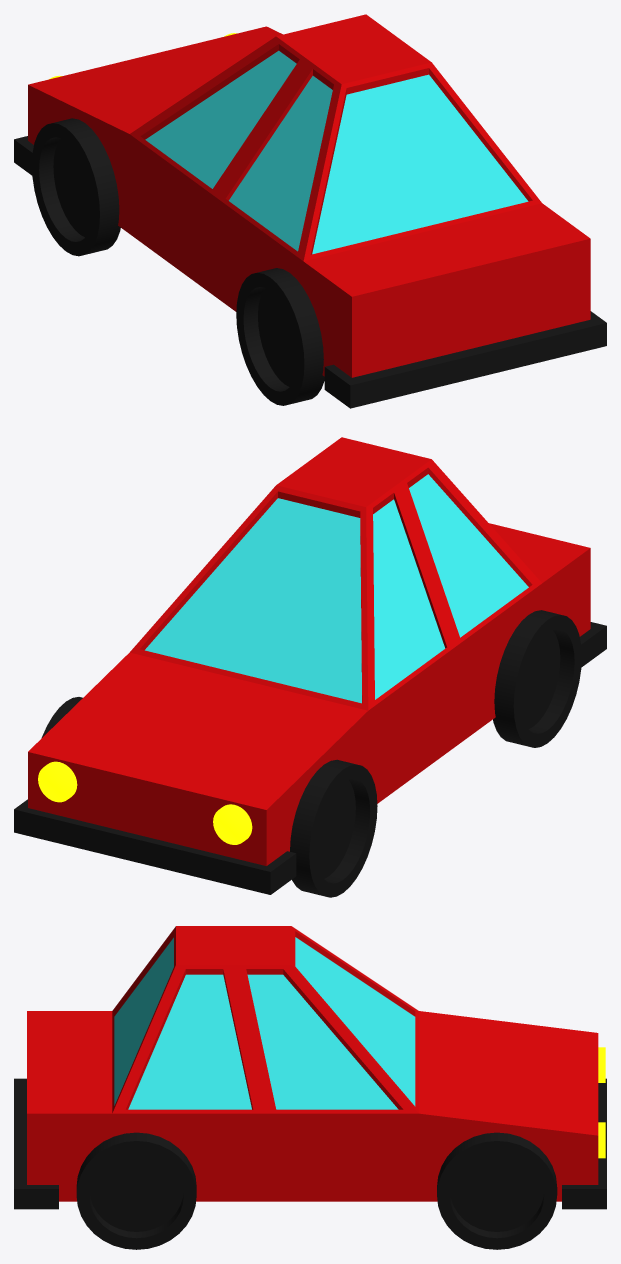
The model's file is car.dae.
The picture shows the model from 3 angles, top to bottom: view 1: azimuth 30°, elevation 25°; view 2: azimuth 150°, elevation 25°; view 3: azimuth 270°, elevation 25°; orthographic projection. The views are drawn at different scales.
Parts seen in each view (by area): view 1: CarBody, FrontWheels.001, FrontWheels, BackBumper, FrontBumper; view 2: CarBody, FrontWheels, FrontWheels.001, FrontBumper, Lights, BackBumper; view 3: CarBody, FrontWheels.001, FrontWheels, BackBumper, FrontBumper, Lights.
Part boxes in pixels (<box>): CarBody: <box>28,14,590,377</box>; FrontWheels.001: <box>236,268,324,405</box>; FrontWheels: <box>32,118,120,256</box>; BackBumper: <box>324,311,606,408</box>; FrontBumper: <box>14,136,33,175</box>; CarBody: <box>28,437,590,865</box>; FrontWheels: <box>41,697,377,897</box>; FrontWheels.001: <box>493,610,581,747</box>; FrontBumper: <box>14,799,296,894</box>; Lights: <box>38,761,252,844</box>; BackBumper: <box>580,622,606,667</box>; CarBody: <box>27,926,598,1201</box>; FrontWheels.001: <box>76,1132,196,1249</box>; FrontWheels: <box>437,1132,557,1249</box>; BackBumper: <box>14,1078,58,1209</box>; FrontBumper: <box>562,1078,606,1209</box>; Lights: <box>598,1047,605,1158</box>.
Bounding box in the file's own units: 3.49 × 7.32 × 3.33.
